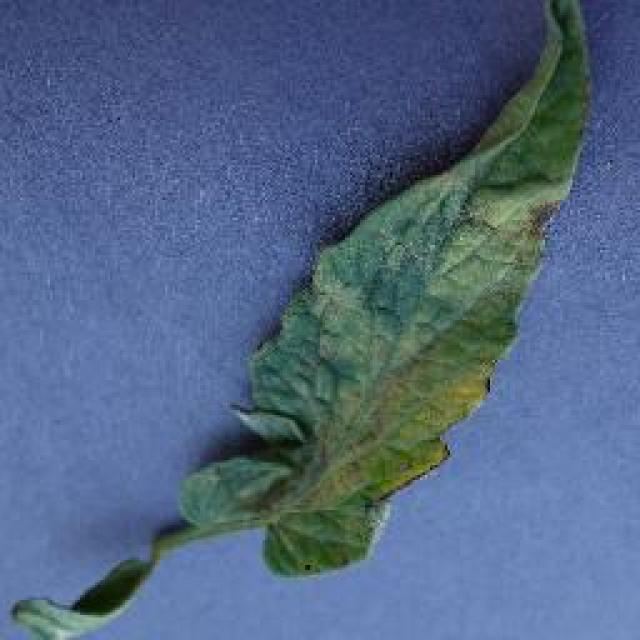Tomato mold leaf: (171, 4, 594, 586)
